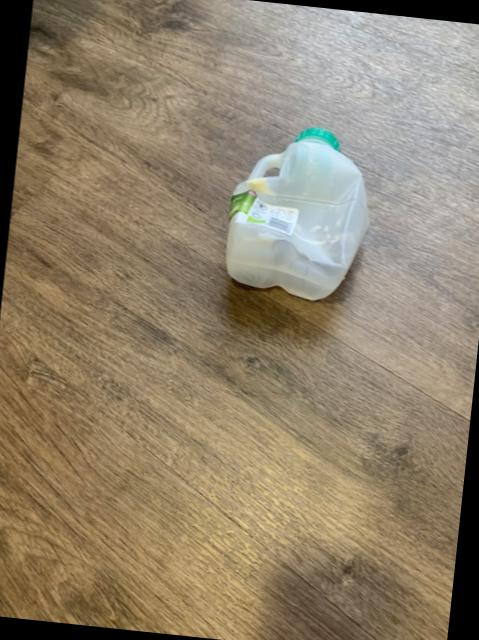plastic: (224, 126, 366, 297)
